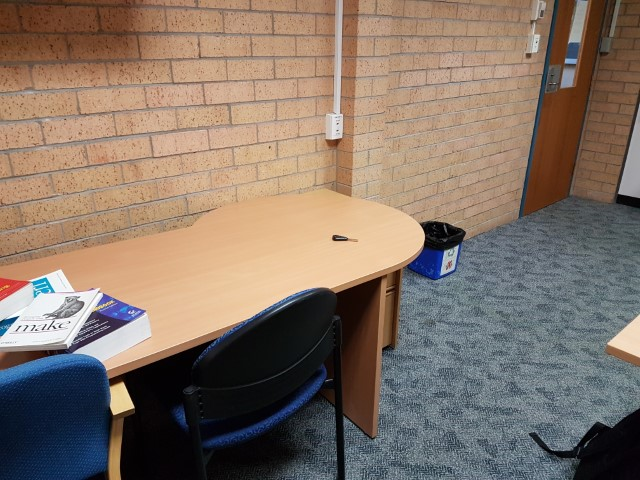key: (332, 234, 358, 243)
